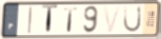9: (82, 5, 100, 34)
I: (27, 6, 34, 35)
T: (41, 4, 59, 36), (63, 6, 79, 33)
U: (122, 5, 143, 34)
V: (102, 5, 123, 35)
